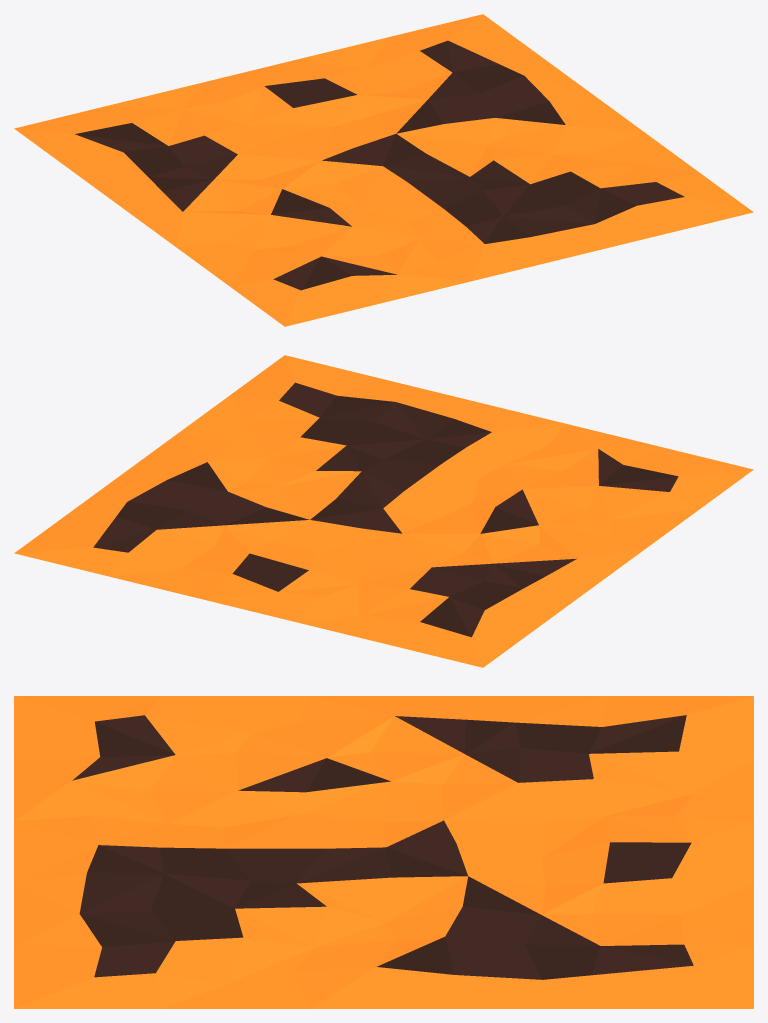
Rendered from ground_lava_b.glb.
3 renders of one model, top to bottom at view 1: azimuth 30°, elevation 25°; view 2: azimuth 150°, elevation 25°; view 3: azimuth 270°, elevation 25°, orthographic. The views are drawn at different scales.
Parts seen in each view (by area): view 1: ground_lava_b; view 2: ground_lava_b; view 3: ground_lava_b.
Boxes of the visible parts, x1,y1,x2,y2 form: ground_lava_b: [14, 14, 753, 326]; ground_lava_b: [14, 355, 753, 667]; ground_lava_b: [14, 696, 753, 1008].
Size of the model in its own units: 4 by 0.03 by 4.
